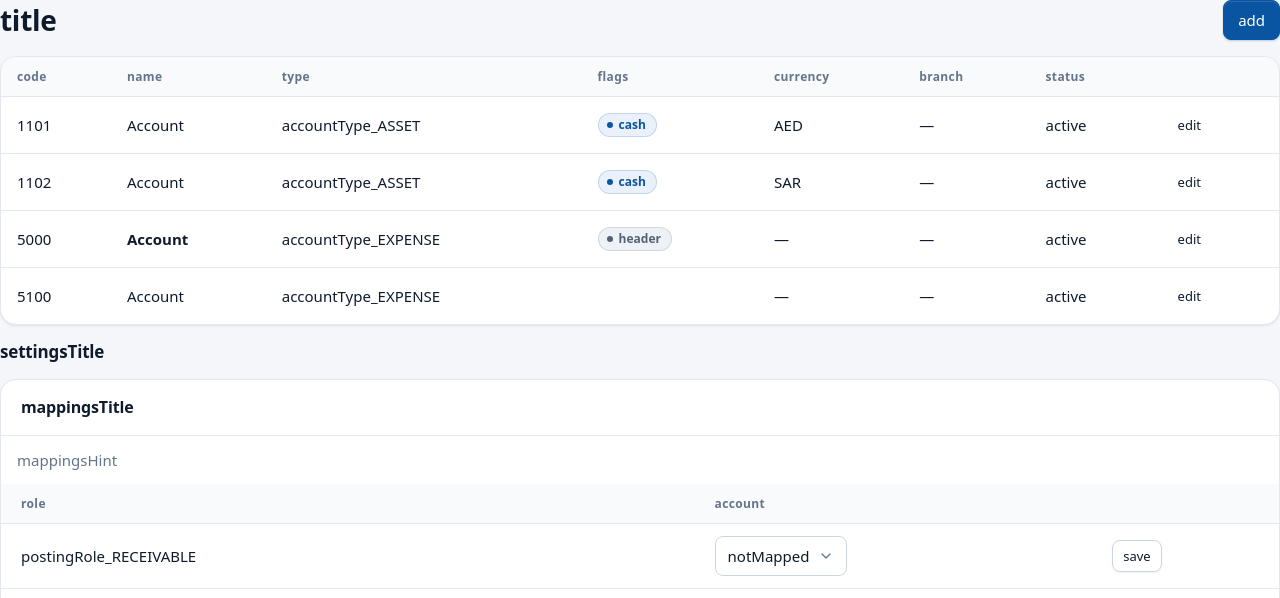
Test: chart of accounts (functional review C7) › locks the type to the parent's, and a root account chooses it
The width and height of the screenshot is (1280, 598).
Step 1. Click the button "add" → (1252, 20), box [1223,0,1279,40]
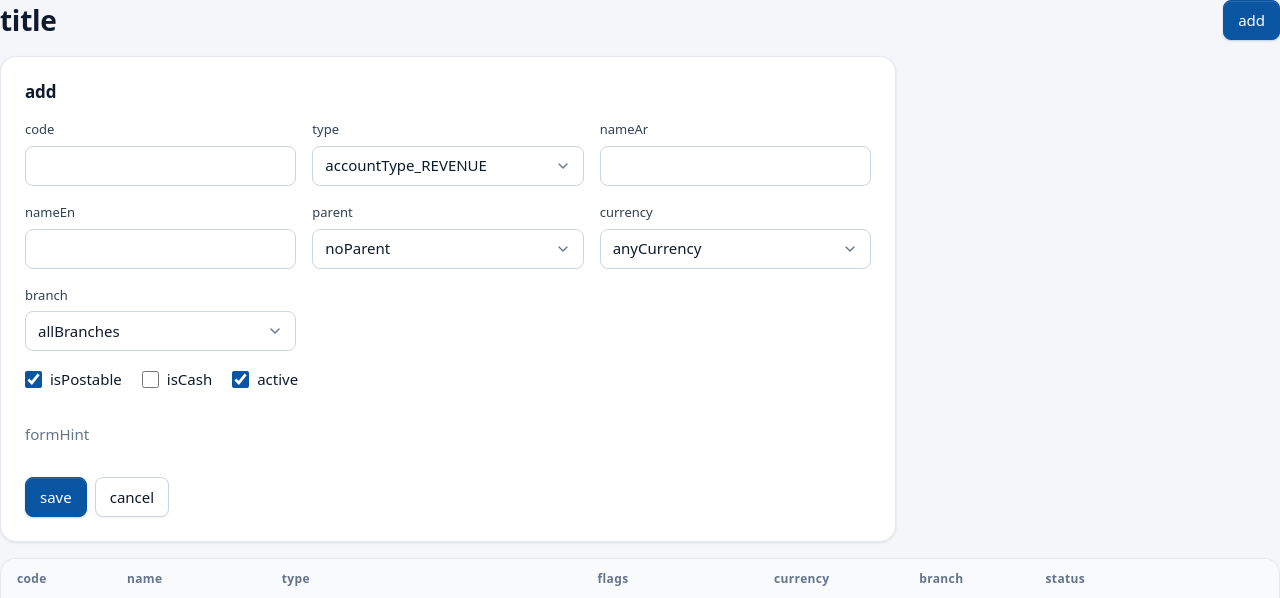
Step 2. Select "accountType_REVENUE" in the dropdown labelled "type" → (448, 166), box [312,146,584,186]
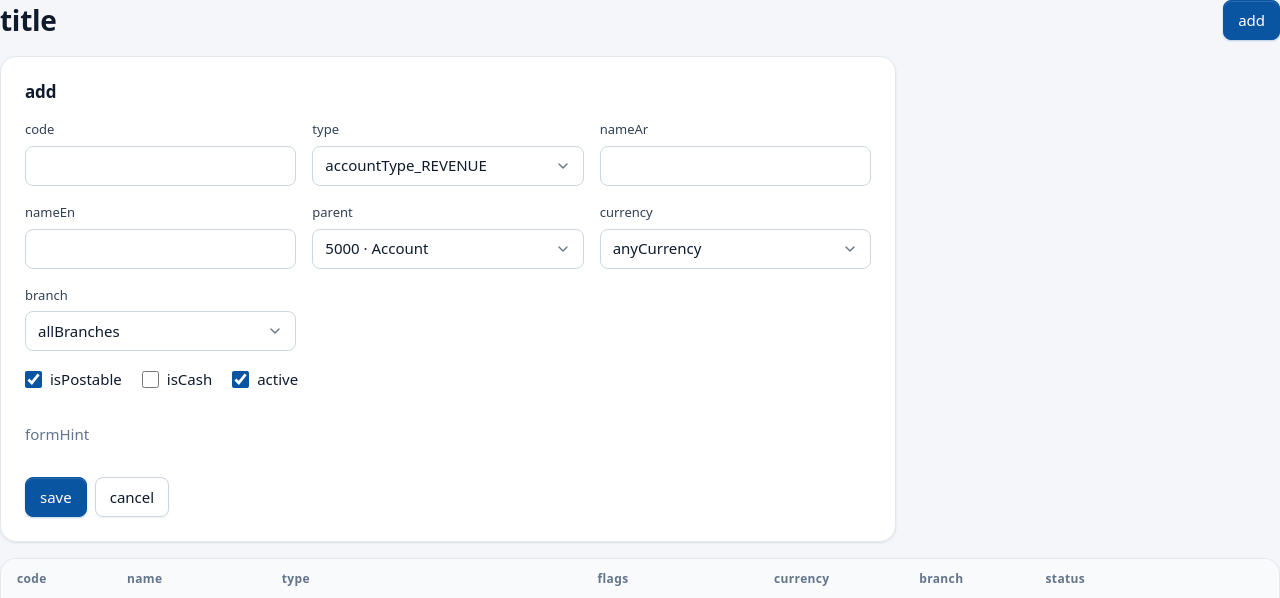
Step 3. Select "5000 · Account" in the dropdown labelled "parent" → (448, 249), box [312,229,584,269]
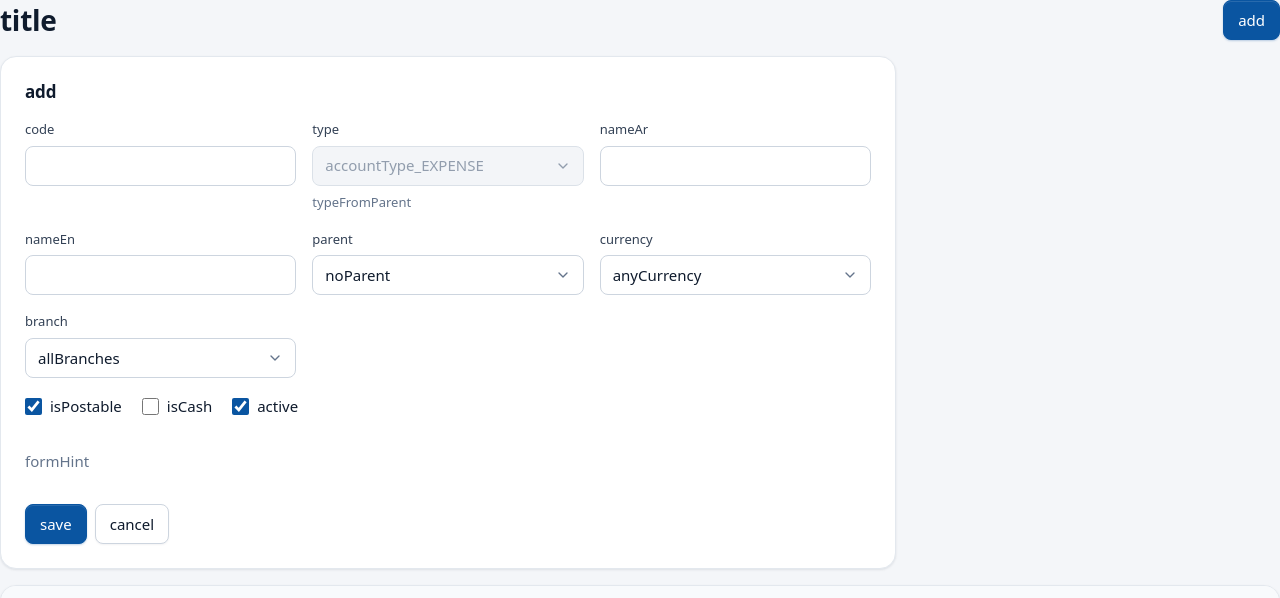
Now the dropdown labelled "type typeFromParent" is disabled, box [312,146,584,186]
Step 4. Select "noParent" in the dropdown labelled "parent" → (448, 276), box [312,256,584,296]
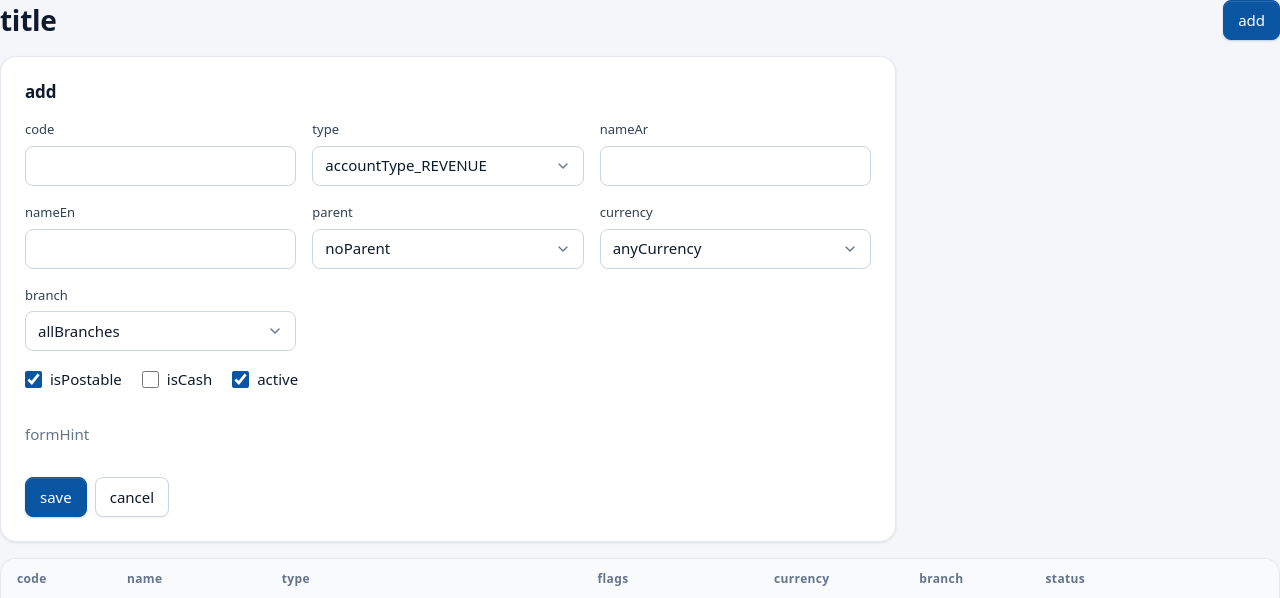
Now the dropdown labelled "type" is enabled, box [312,146,584,186]
